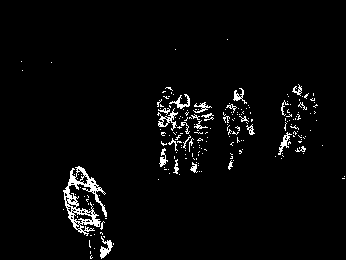person: (63, 164, 115, 259), (224, 86, 256, 172), (155, 85, 178, 175), (191, 98, 214, 176), (281, 83, 302, 156), (174, 91, 191, 177), (298, 92, 317, 155)
